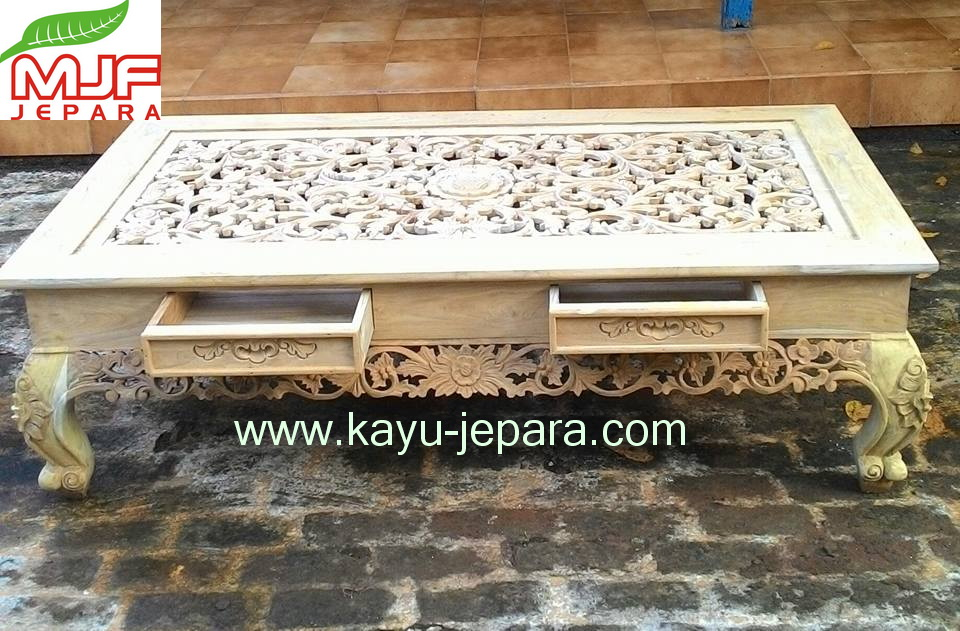Carving Table: (12, 107, 954, 523)
